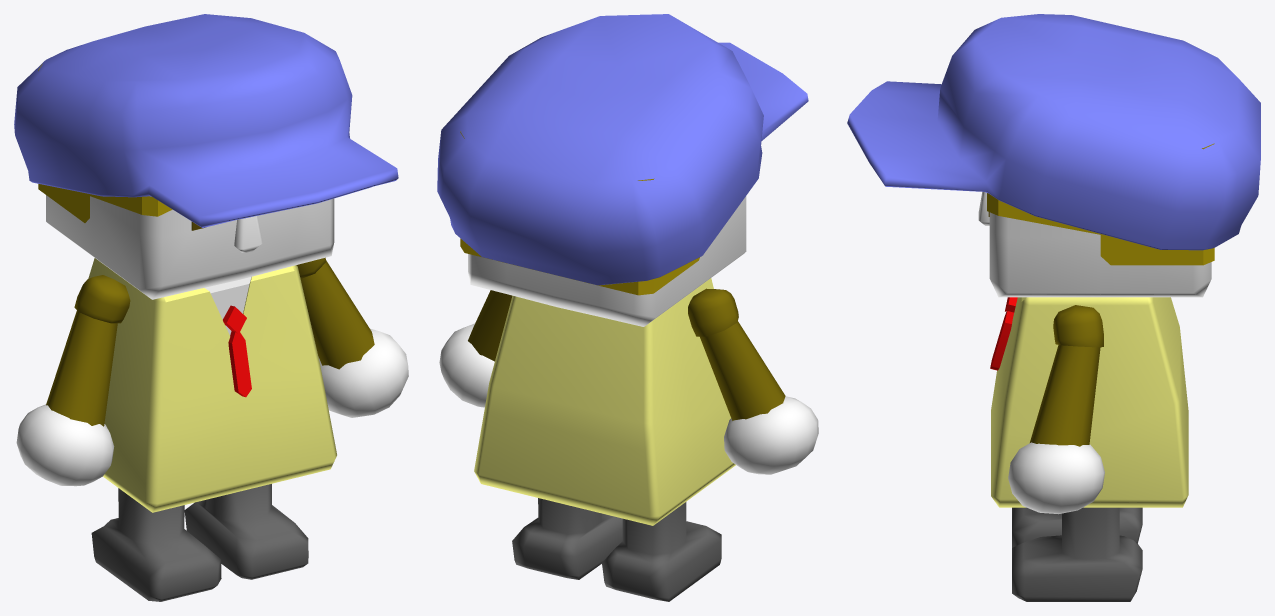
Rendered from Character.fbx.
3 views of the same model, side by side, from view 1: azimuth 30°, elevation 25°; view 2: azimuth 150°, elevation 25°; view 3: azimuth 270°, elevation 25° (orthographic). The views are drawn at different scales.
Parts seen in each view (by area): view 1: hat, suit, face, right, left, polySurface9, polySurface11, polySurface8, polySurface10, hair, tie, shirt (+1 smaller); view 2: hat, suit, face, right, polySurface9, left, polySurface11, polySurface10, polySurface8, hair; view 3: hat, suit, face, left, polySurface8, polySurface10, hair, right, tie.
Part boxes in pixels (x1=…): hat: x1=14, y1=14, x2=398, y2=227; suit: x1=88, y1=258, x2=336, y2=512; face: x1=46, y1=195, x2=334, y2=299; right: x1=91, y1=488, x2=221, y2=601; left: x1=184, y1=484, x2=308, y2=579; polySurface9: x1=46, y1=275, x2=130, y2=426; polySurface11: x1=16, y1=404, x2=114, y2=486; polySurface8: x1=296, y1=257, x2=374, y2=369; polySurface10: x1=318, y1=328, x2=408, y2=417; hair: x1=38, y1=64, x2=172, y2=222; tie: x1=223, y1=305, x2=251, y2=397; shirt: x1=204, y1=277, x2=251, y2=335; hat: x1=437, y1=14, x2=808, y2=285; suit: x1=474, y1=278, x2=735, y2=525; face: x1=468, y1=196, x2=746, y2=326; right: x1=602, y1=502, x2=721, y2=601; polySurface9: x1=688, y1=288, x2=785, y2=420; left: x1=512, y1=498, x2=622, y2=579; polySurface11: x1=724, y1=396, x2=818, y2=474; polySurface10: x1=439, y1=323, x2=494, y2=407; polySurface8: x1=468, y1=290, x2=512, y2=361; hair: x1=460, y1=131, x2=699, y2=295; hat: x1=847, y1=14, x2=1260, y2=250; suit: x1=991, y1=297, x2=1188, y2=507; face: x1=989, y1=212, x2=1211, y2=297; left: x1=1012, y1=507, x2=1142, y2=601; polySurface8: x1=1030, y1=305, x2=1103, y2=446; polySurface10: x1=1008, y1=442, x2=1104, y2=514; hair: x1=987, y1=143, x2=1214, y2=265; right: x1=1012, y1=507, x2=1142, y2=547; tie: x1=990, y1=297, x2=1017, y2=370.
Bounding box in the file's own units: 3.97 × 5.33 × 3.81.
